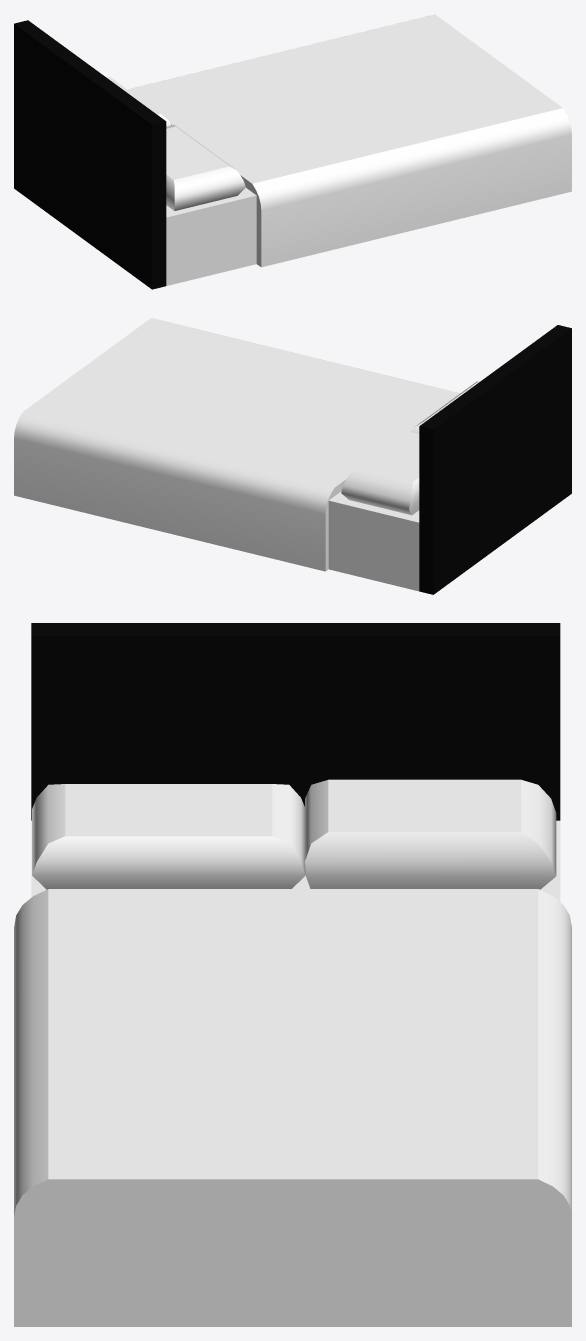
File: bed.fbx
3 views of the same model, one above another, from view 1: azimuth 30°, elevation 25°; view 2: azimuth 150°, elevation 25°; view 3: azimuth 270°, elevation 25° (orthographic). The views are drawn at different scales.
Visible parts, largest first — view 1: 침대; view 2: 침대; view 3: 침대.
Part boxes in pixels (x1,y1,x2,y2): 침대: [14, 14, 571, 289]; 침대: [14, 318, 571, 594]; 침대: [14, 623, 571, 1326].
Size of the model in its own units: 41.54 by 15.76 by 25.24.
